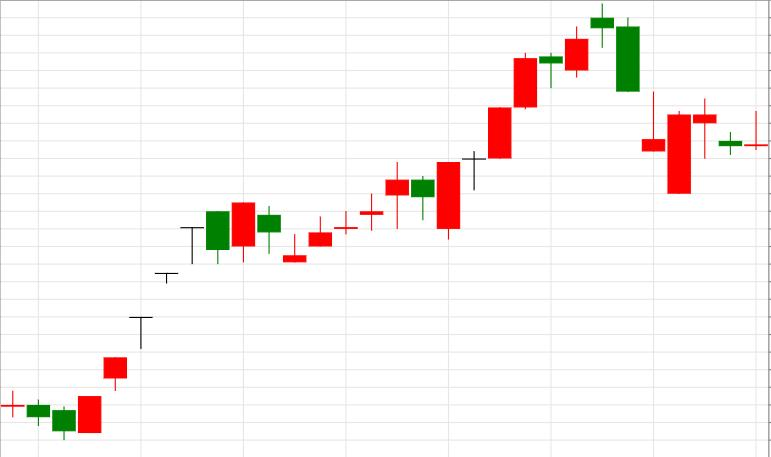evening_star_fall: (437, 2, 639, 240)
